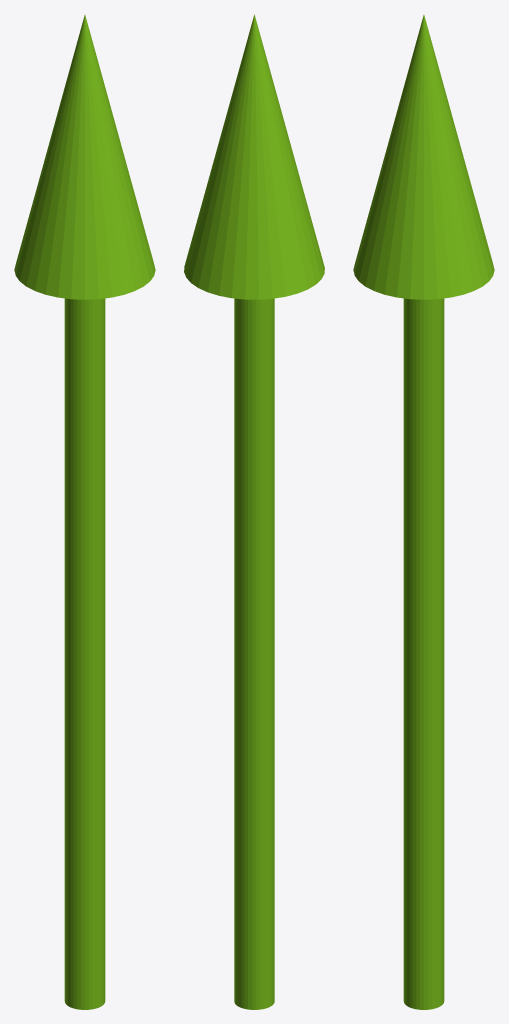
File: das.fbx
The picture shows the model from 3 angles, left to right: view 1: azimuth 90°, elevation 25°; view 2: azimuth 150°, elevation 25°; view 3: azimuth 270°, elevation 25°; orthographic projection.
Parts seen in each view (by area): view 1: Cylinder; view 2: Cylinder; view 3: Cylinder.
Part boxes in pixels (x1,y1,x2,y2): Cylinder: (14,15,155,1009); Cylinder: (184,14,324,1009); Cylinder: (353,15,494,1009).
Size of the model in its own units: 3.5 by 27 by 3.5.
